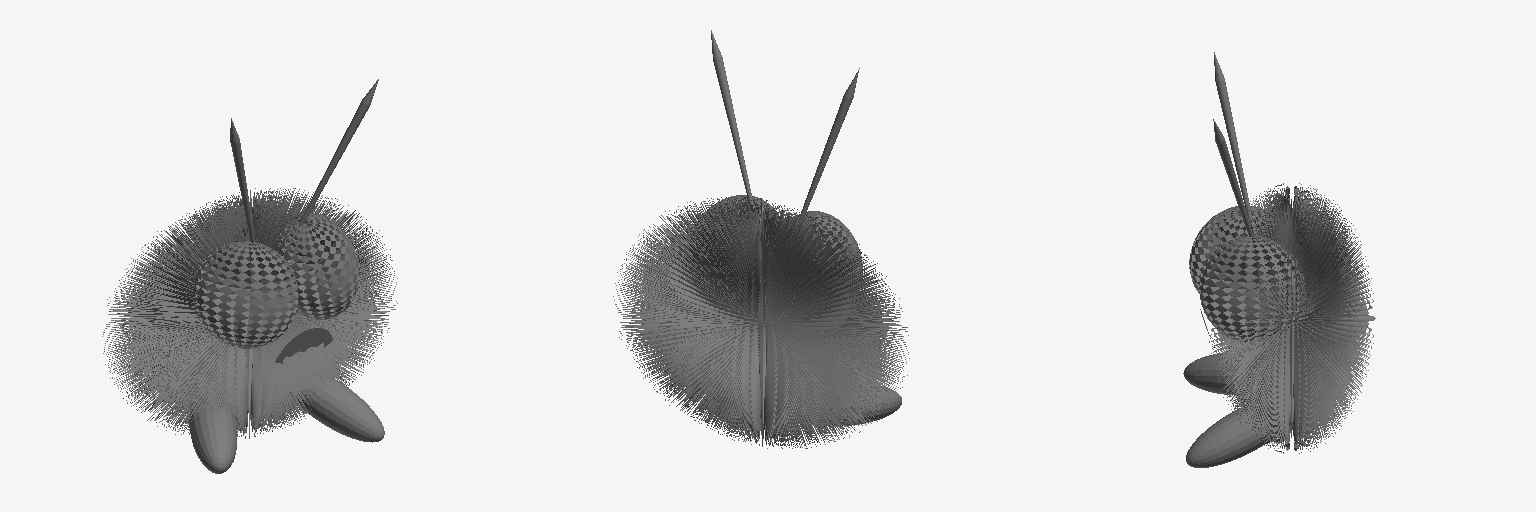
File: Venonat002.obj
The picture shows the model from 3 angles: view 1: azimuth 30°, elevation 25°; view 2: azimuth 150°, elevation 25°; view 3: azimuth 270°, elevation 25°; orthographic projection.
Visible parts, largest first — view 1: pSuperShape1, pSphere22; view 2: pSuperShape1, pSphere22; view 3: pSuperShape1, pSphere22.
Boxes of the visible parts, x1,y1,x2,y2 form: pSuperShape1: [102, 188, 397, 438]; pSphere22: [189, 79, 384, 473]; pSuperShape1: [613, 197, 909, 448]; pSphere22: [690, 30, 901, 426]; pSuperShape1: [1207, 183, 1375, 453]; pSphere22: [1183, 52, 1305, 467].
Bounding box in the file's own units: 4 × 4.8 × 2.32.